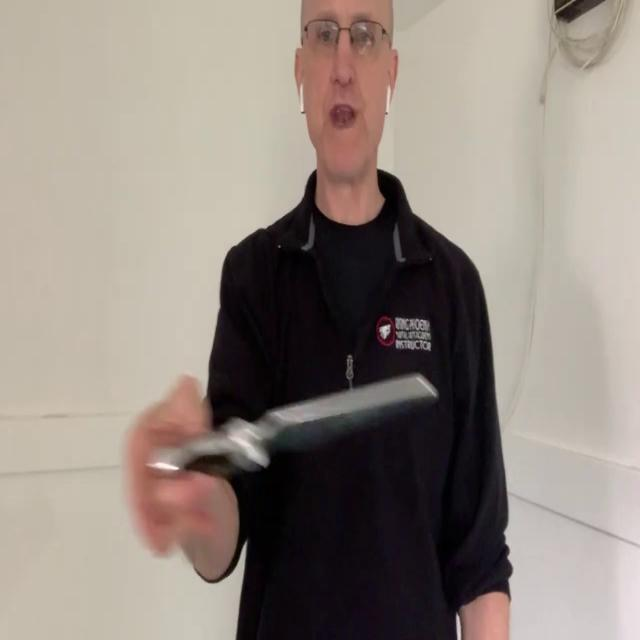Knife_Handle: (122, 372, 438, 558)
